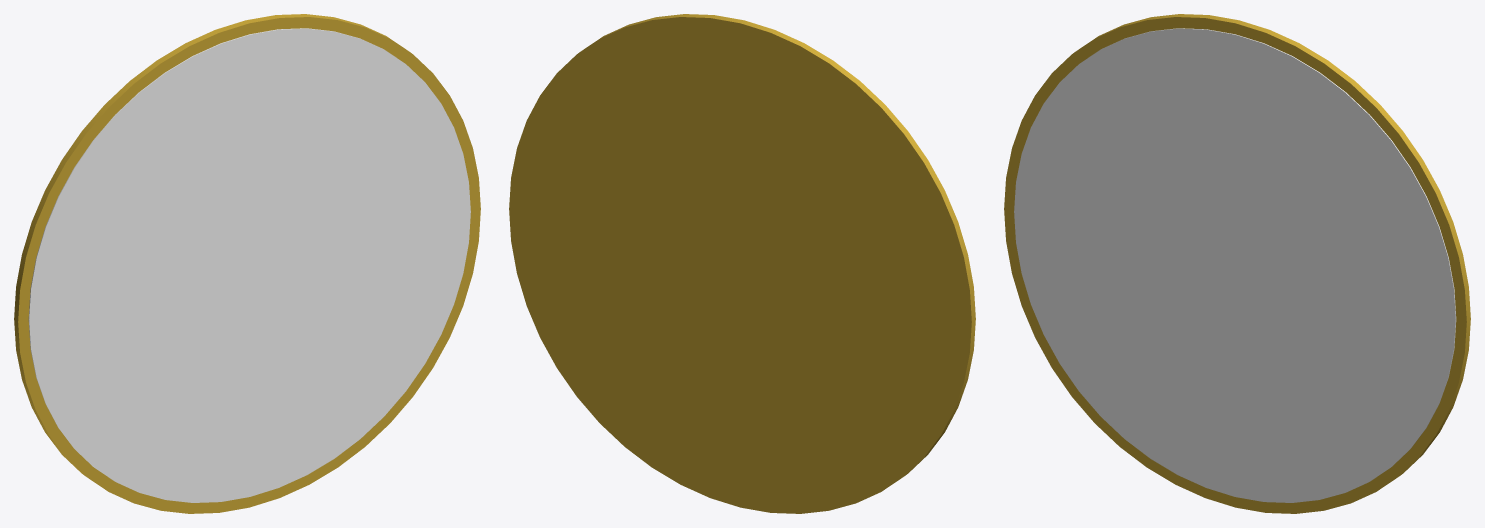
File: 26050IN-BGL.glb
3 renders of one model, left to right at view 1: azimuth 30°, elevation 25°; view 2: azimuth 150°, elevation 25°; view 3: azimuth 330°, elevation 25°, orthographic.
Visible parts, largest first — view 1: Kohler_Essential_71_Round_Mirror; view 2: Kohler_Essential_71_Round_Mirror; view 3: Kohler_Essential_71_Round_Mirror.
Part boxes in pixels (bbox=[...]): Kohler_Essential_71_Round_Mirror: bbox=[14, 14, 480, 513]; Kohler_Essential_71_Round_Mirror: bbox=[509, 14, 975, 513]; Kohler_Essential_71_Round_Mirror: bbox=[1004, 14, 1470, 513].
Bounding box in the file's own units: 2.64 × 2.64 × 0.045.
